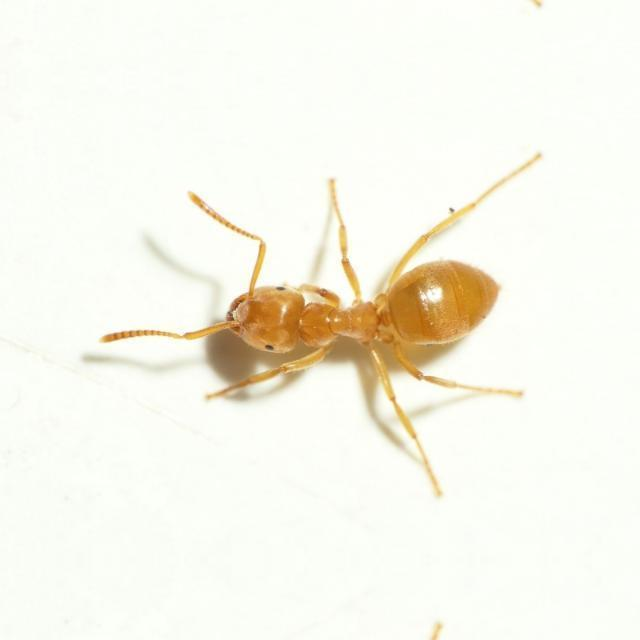Lasius: (154, 209, 496, 403)
